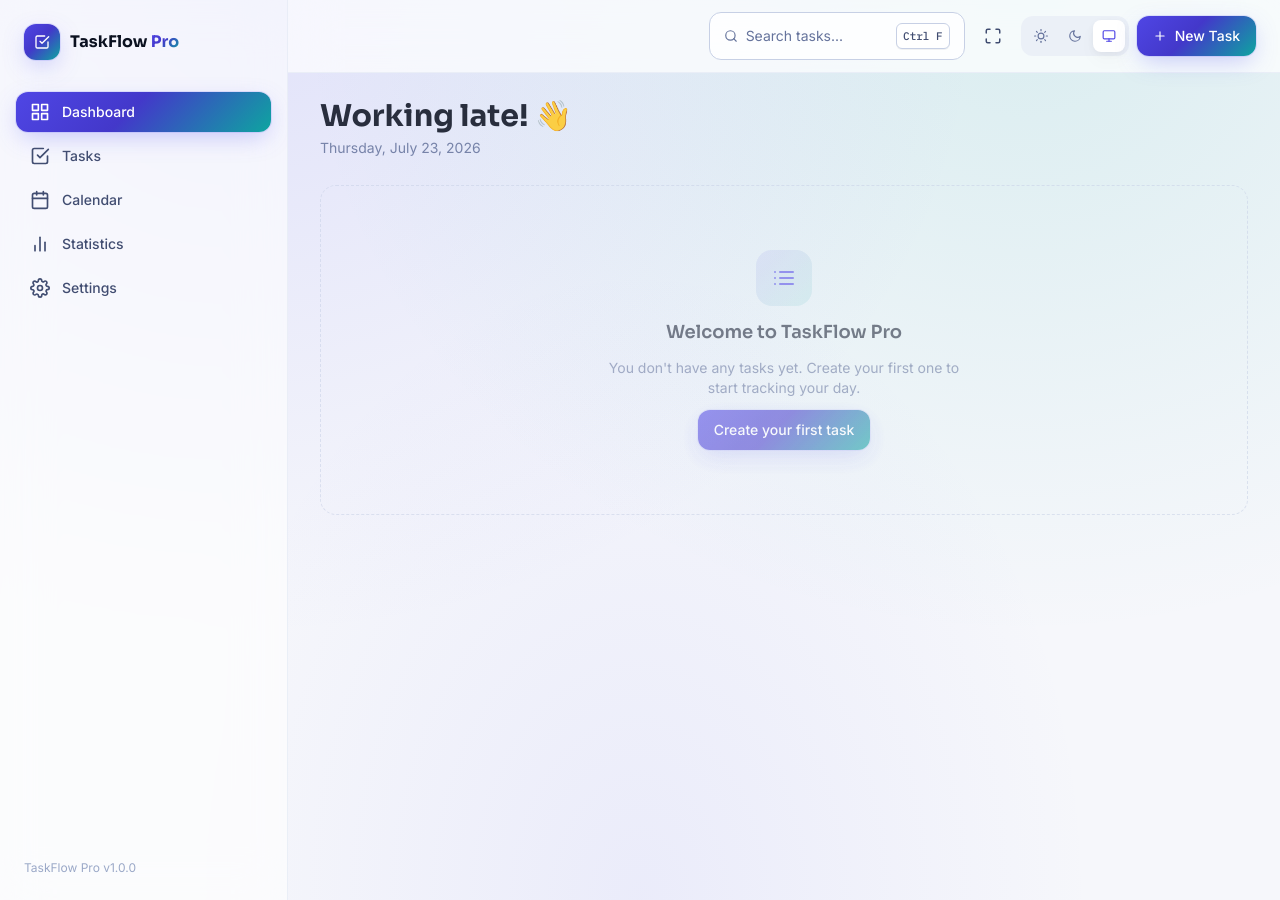
Test: TaskFlow Pro › creates a task from the dashboard empty state and updates stats
Click the button "Create your first task" at (784, 430), box [698, 410, 870, 450]
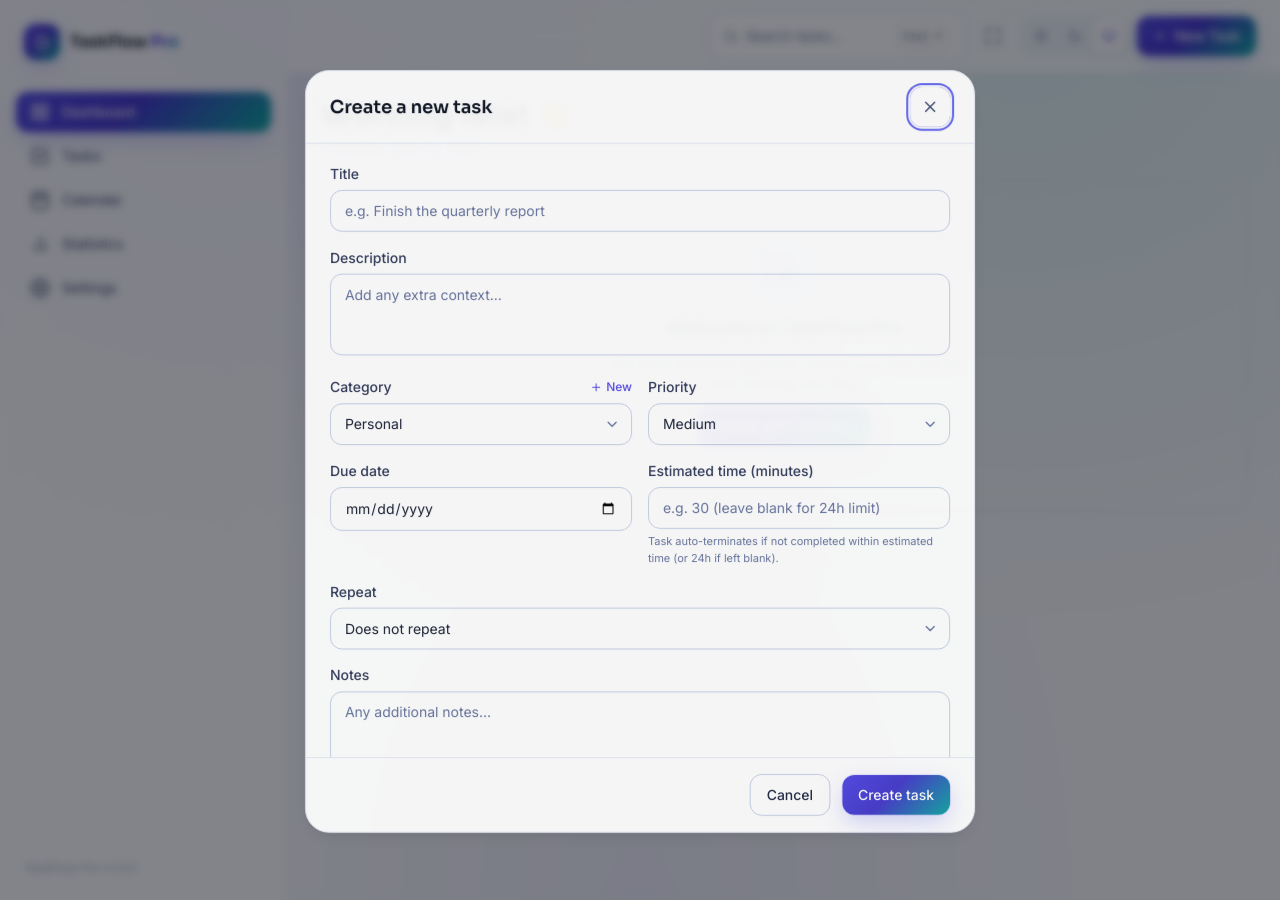
Type "Write project proposal" into the field labelled "Title" at (640, 210), box [330, 189, 950, 231]
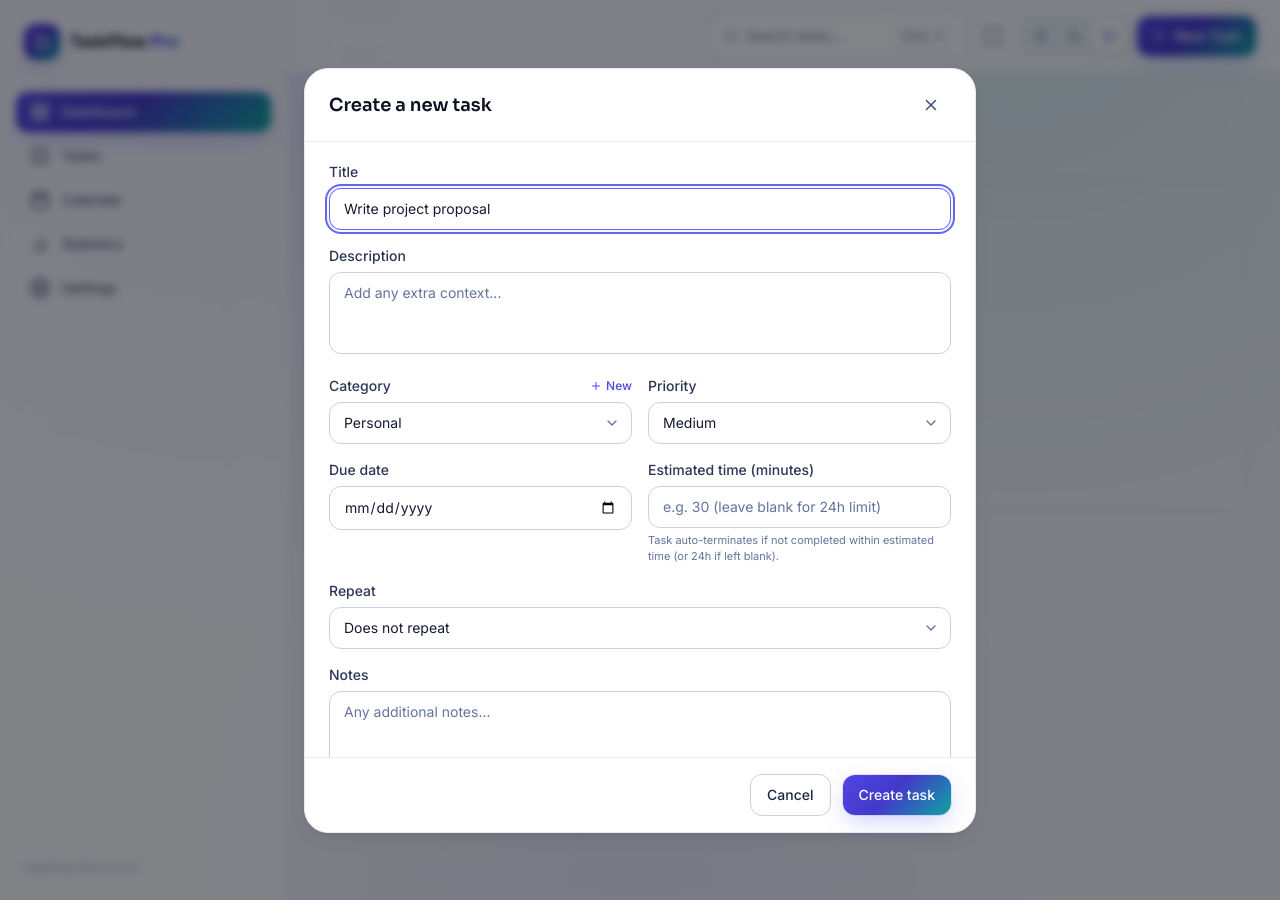
Click the button "Create task" at (897, 794), box [842, 774, 951, 814]
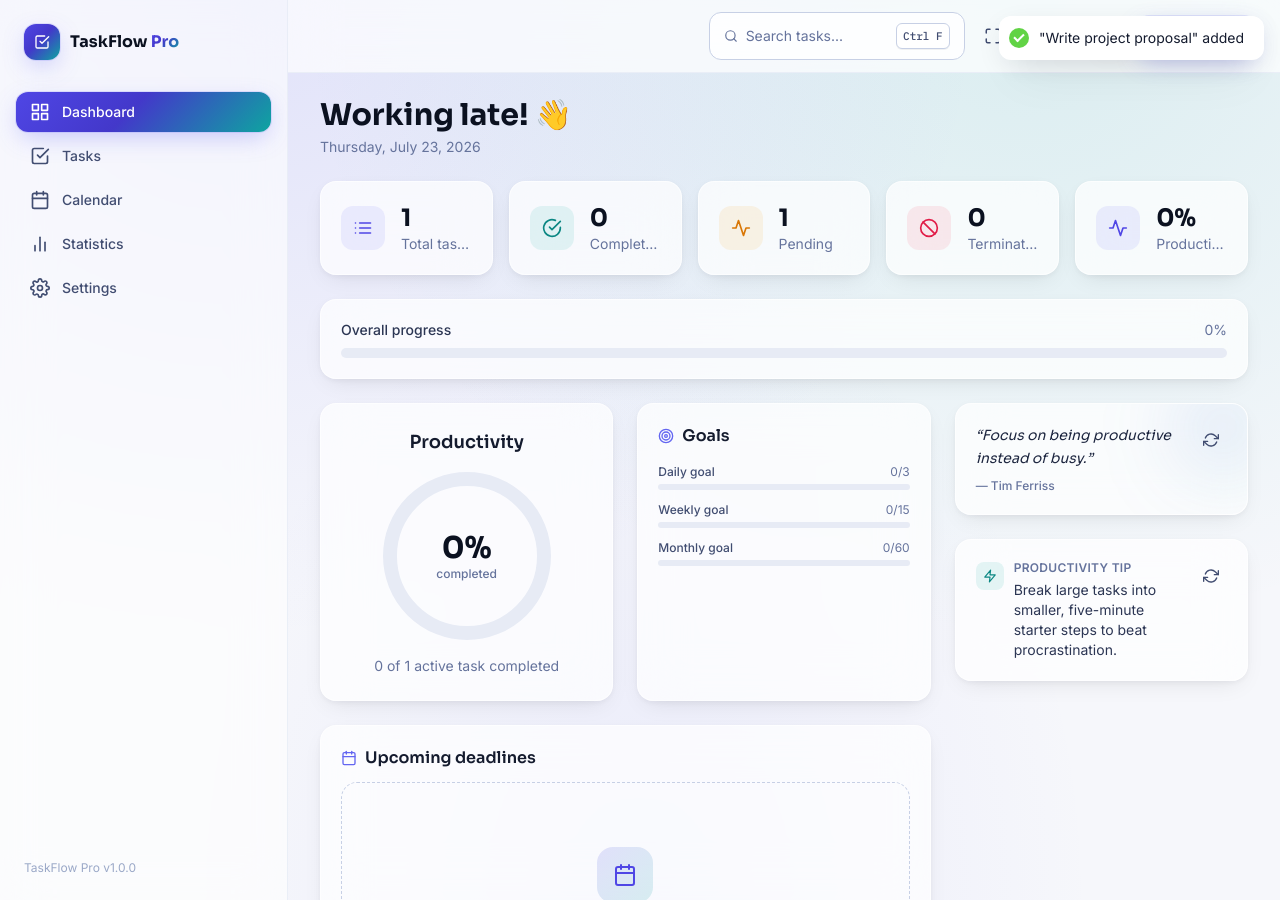
Check: the text "Total tasks" is shown, box [401, 234, 472, 254]
Check: the 1st text "1" is shown, box [401, 203, 411, 233]
